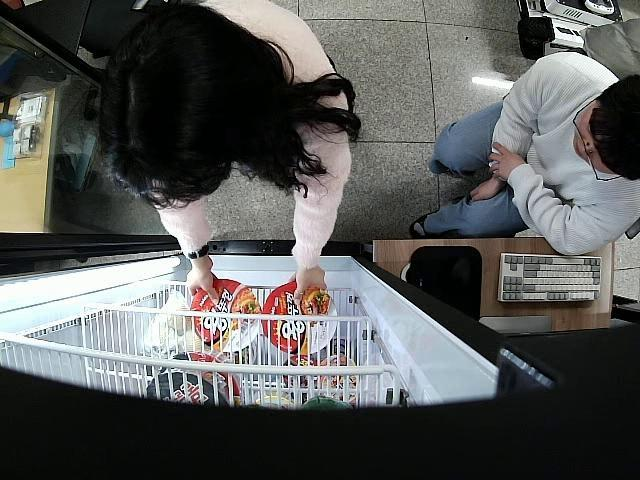10_wangTtukkeong: (264, 282, 336, 354), (192, 280, 262, 351)
